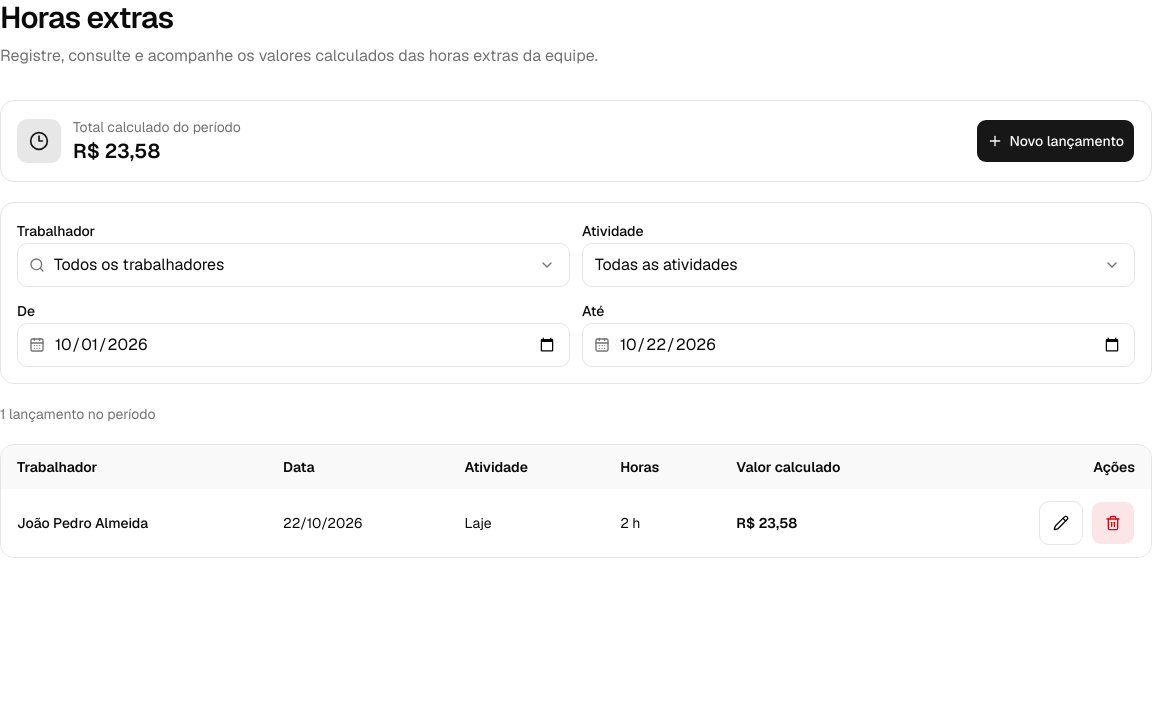
Test case: tela de horas extras RF03 › valida trabalhador e atividade no formulário de novo lançamento
Expected: the text "1 lançamento no período" is shown, [0, 405, 156, 423]
Click the button "Novo lançamento" at (1056, 141), box [976, 119, 1135, 163]
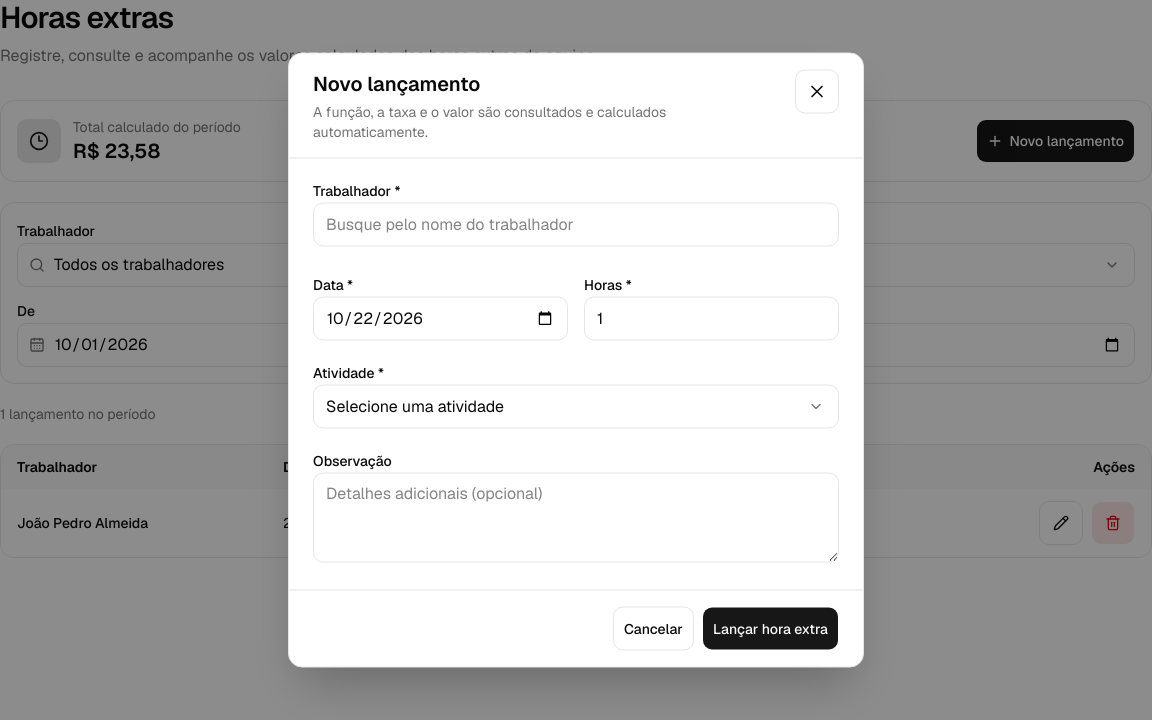
Click the button "Lançar hora extra" at (770, 628), box [702, 606, 839, 650]
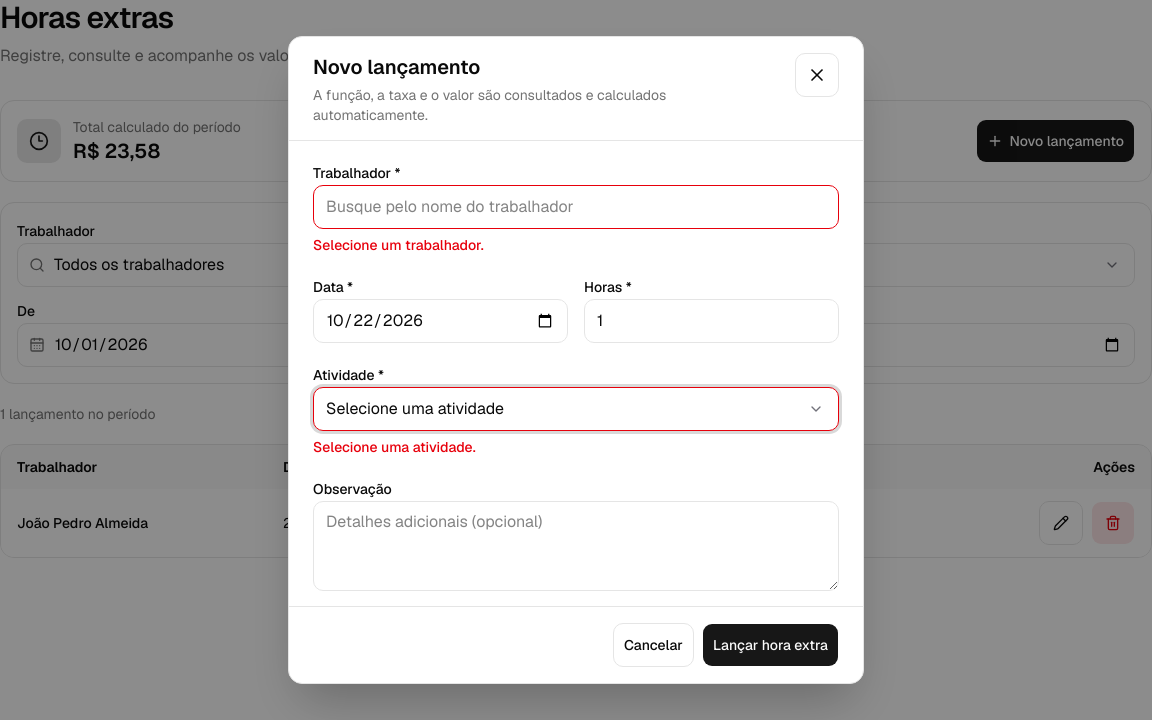
Now the text "Selecione um trabalhador." is shown, box [313, 236, 484, 254]
Now the text "Selecione uma atividade." is shown, box [313, 438, 476, 456]
